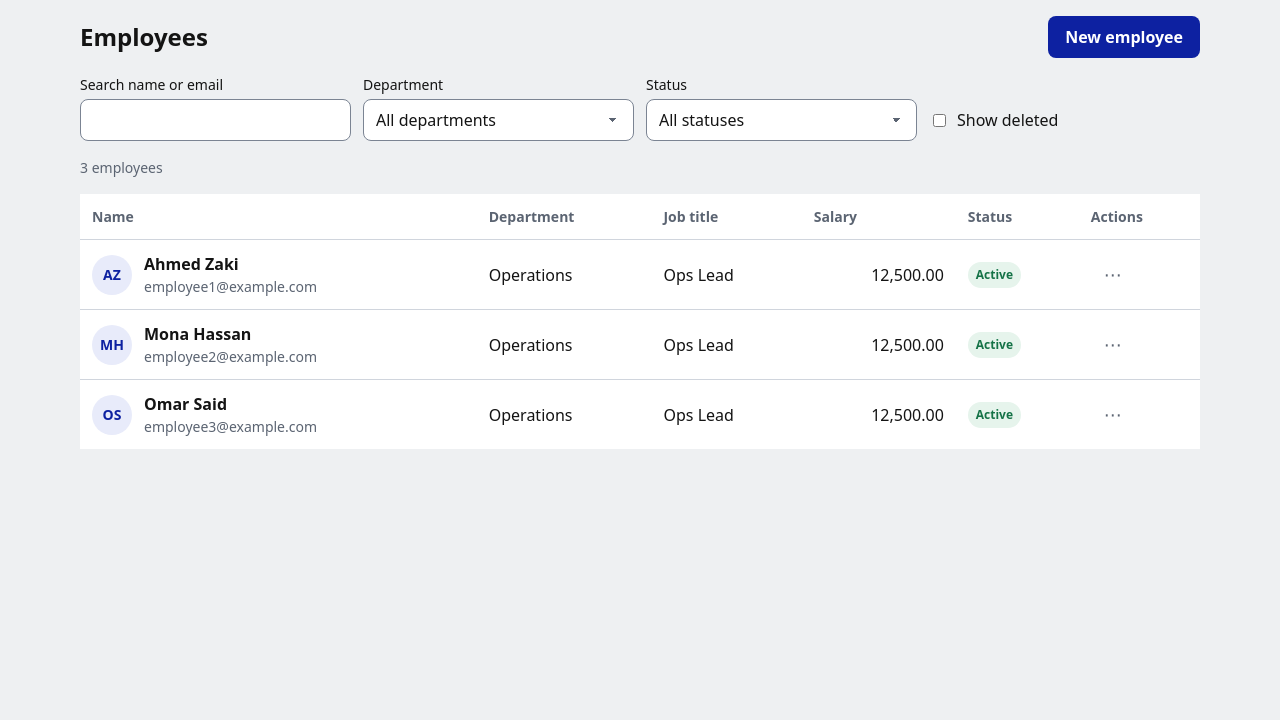
it: Employee delete - dialog (edge case 2) › closes on Cancel without deleting
Expected: the table is shown, [80, 194, 1200, 449]
Click the button named "Actions for Ahmed Zaki" at (1113,274), box [1091, 256, 1135, 293]
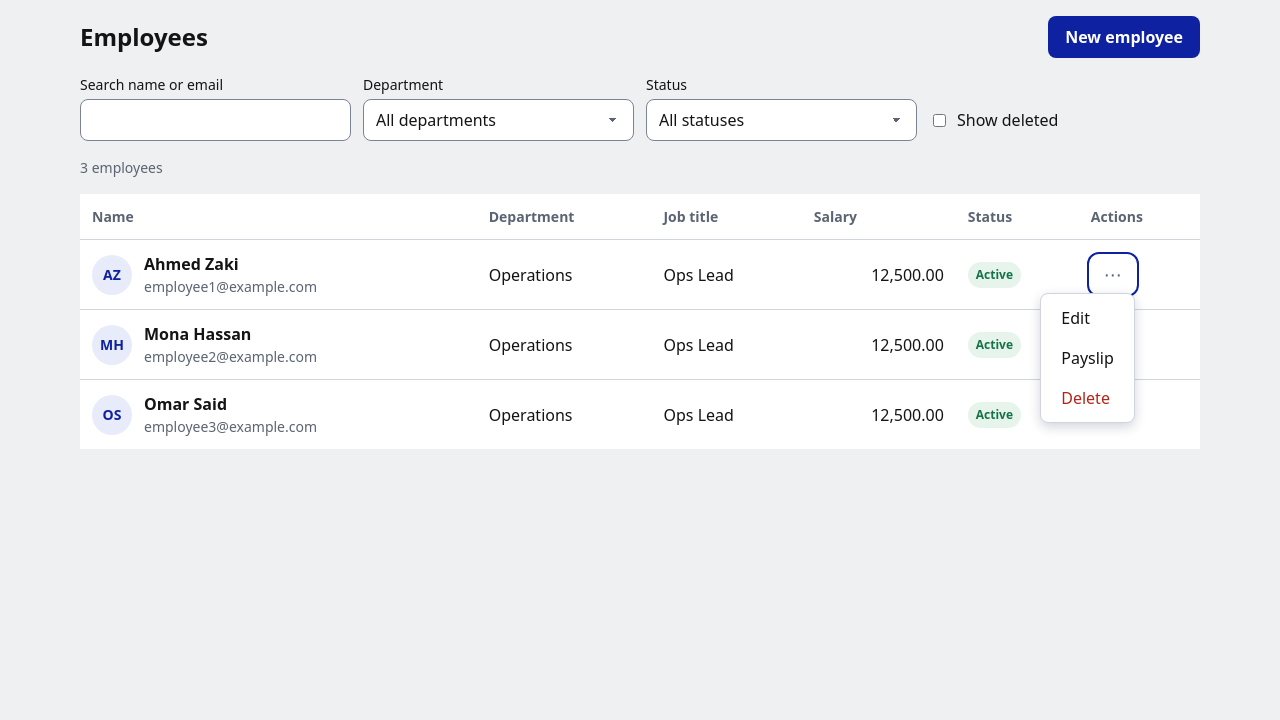
Click the menu item "Delete" at (1088,398), box [1045, 378, 1130, 418]
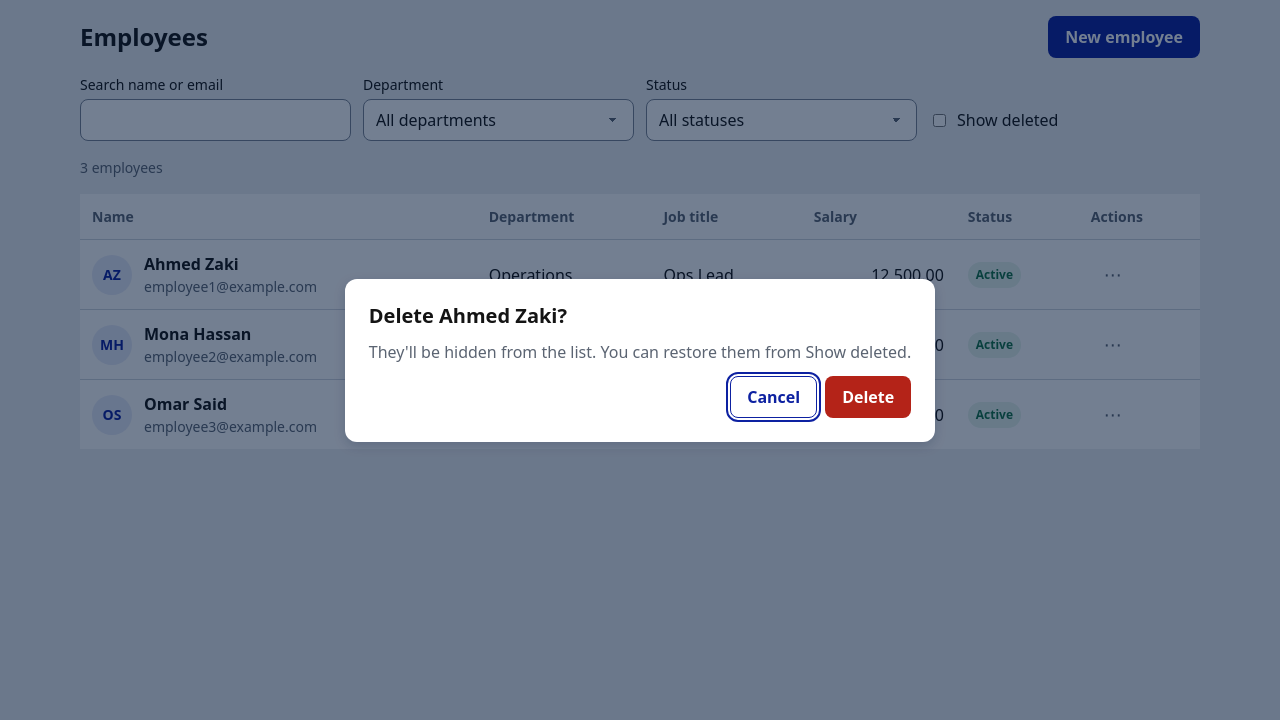
Expected: the dialog is shown, [345, 278, 935, 442]
Click the button "Cancel" at (774,396), box [730, 376, 817, 418]
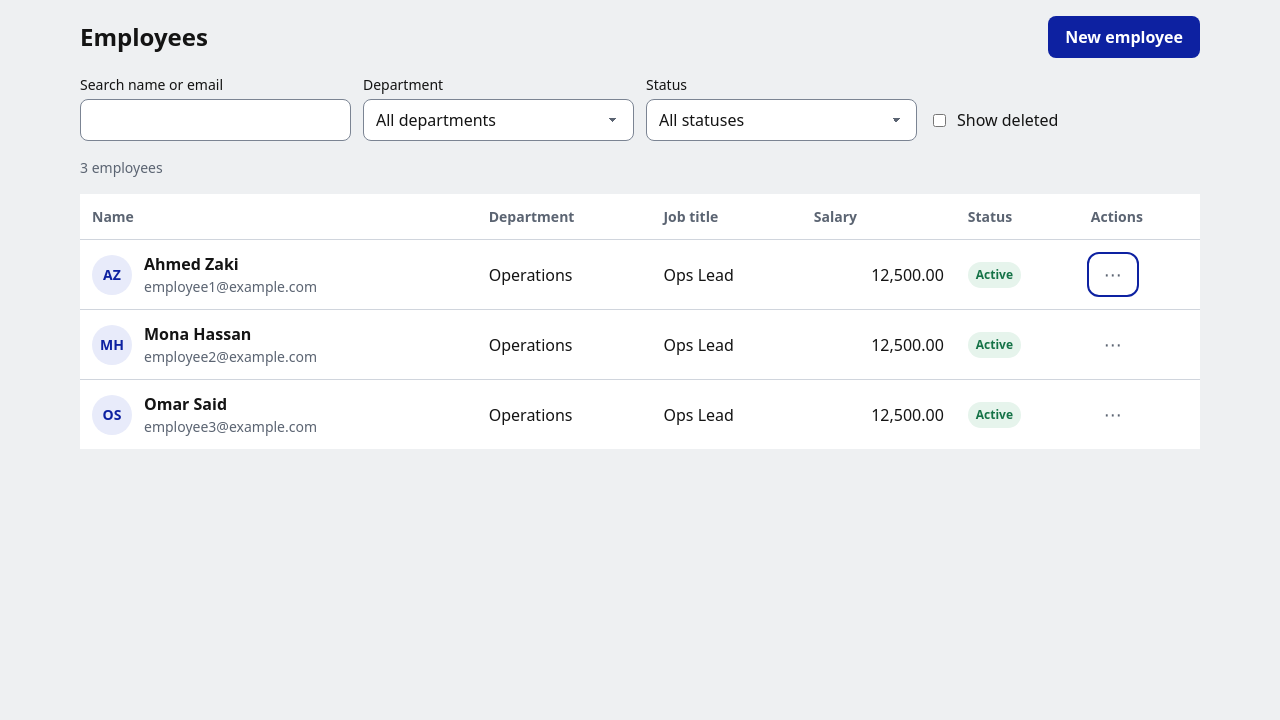
Expected: the dialog is gone
